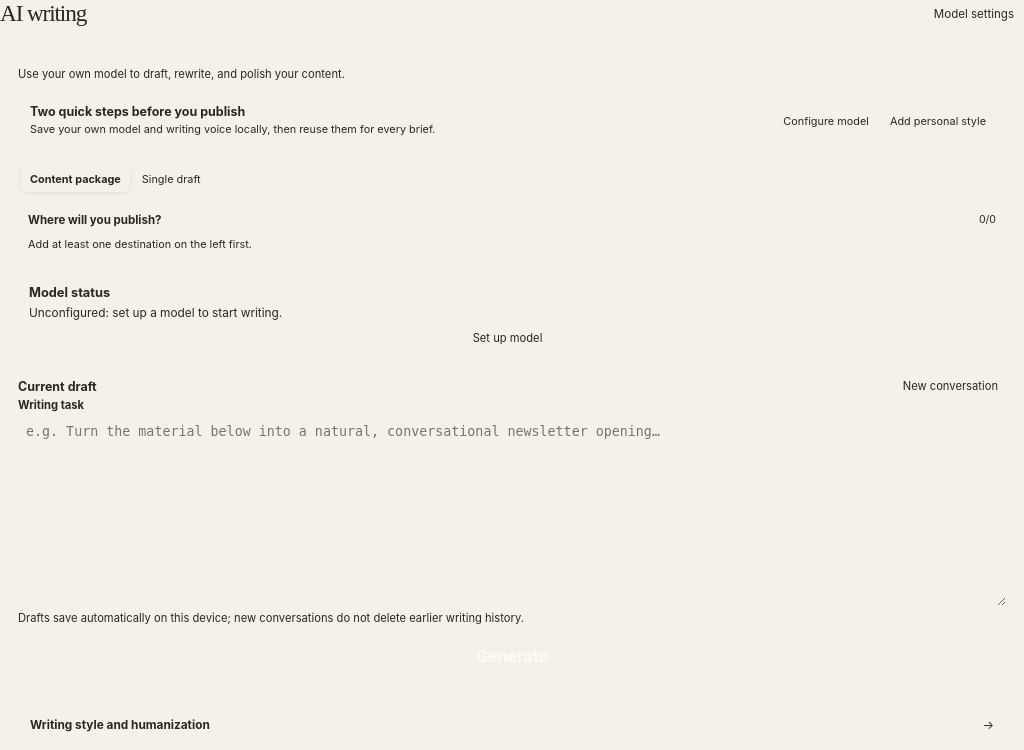
first model setup › saves locally and returns even when a future remote test would fail
Click the button "Set up model" at (508, 338), box [29,326,986,350]
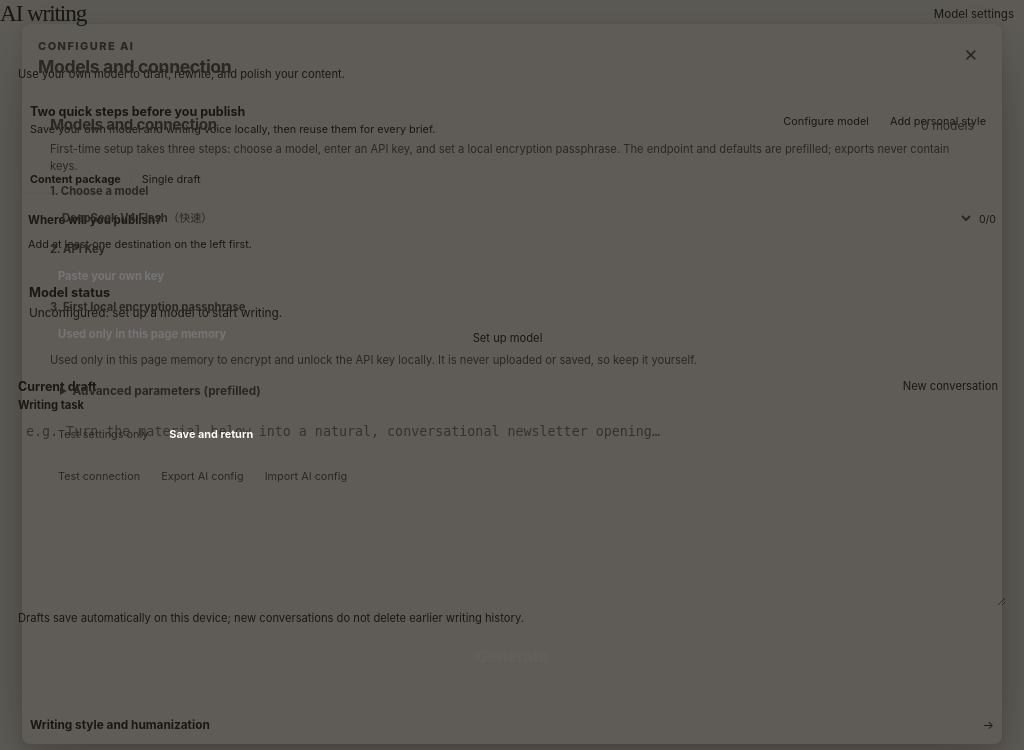
Type "local-passphrase" into the password field named "Local unlock passphrase" at (512, 334), box [50,318,974,350]
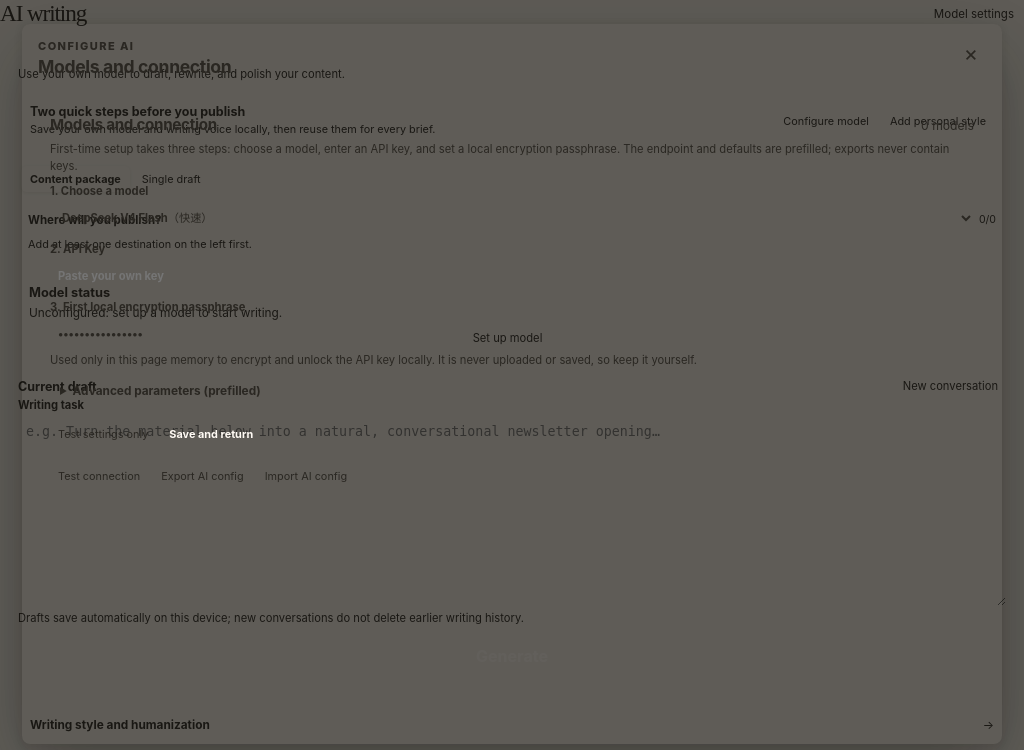
Type "sk-save-without-network" into the password field labelled "2. API Key" at (512, 276), box [50,260,974,292]
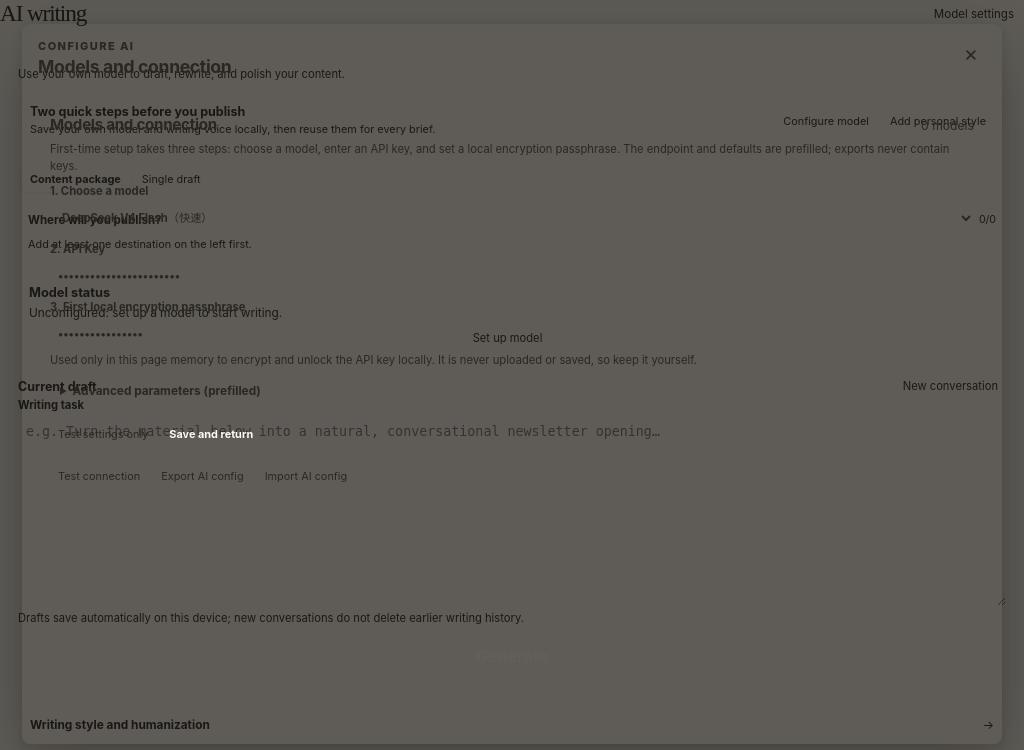
Click the button "Save and return" at (211, 434), box [161,421,261,447]
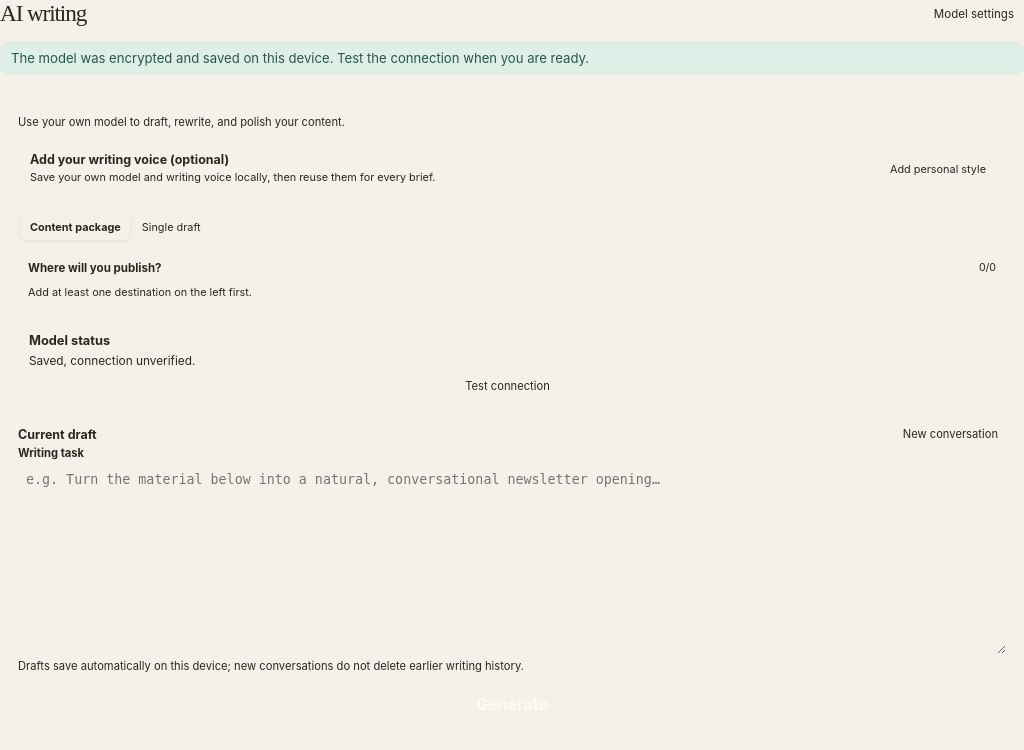
Result: the dialog is gone
Result: the message shows "encrypted and saved on this device" at [11,50,589,66]
